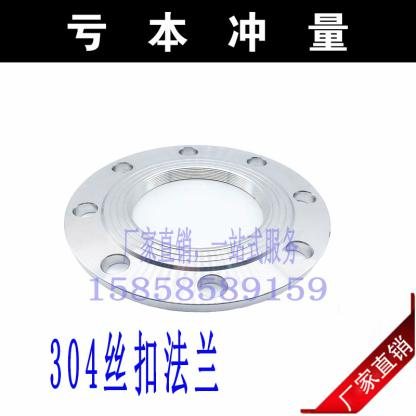FOD: (57, 139, 338, 319)
